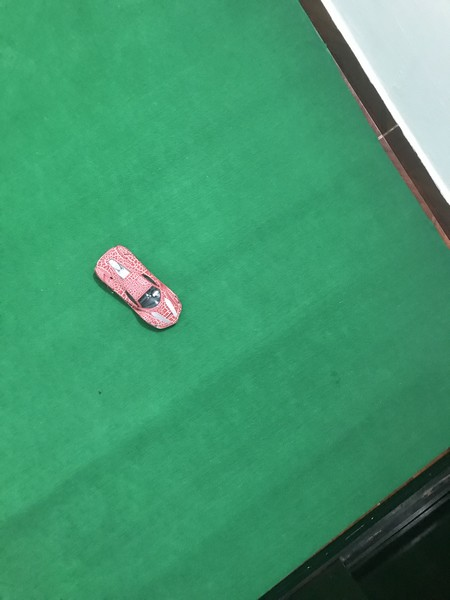RC: (94, 243, 184, 335)
